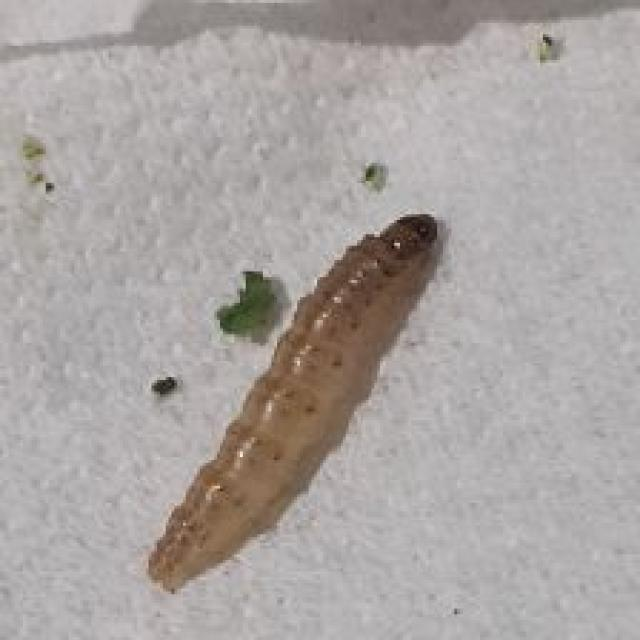white mucus: (120, 212, 480, 575)
